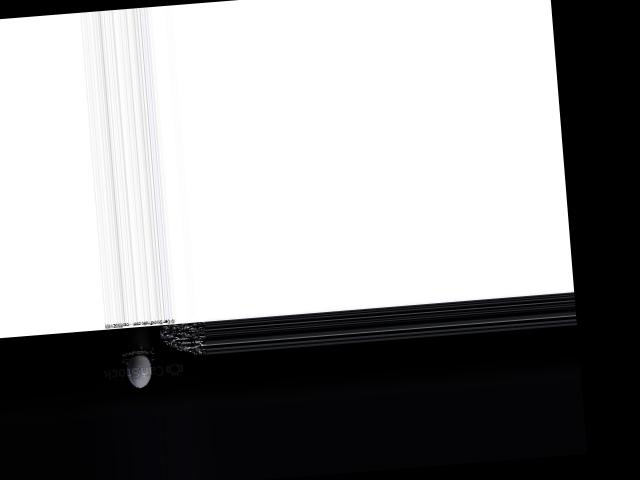egg: (125, 353, 152, 388)
